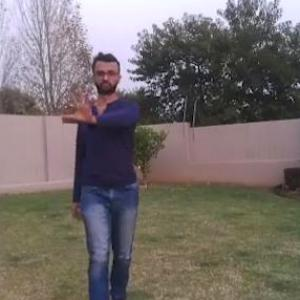follow_hand: (63, 85, 100, 124)
